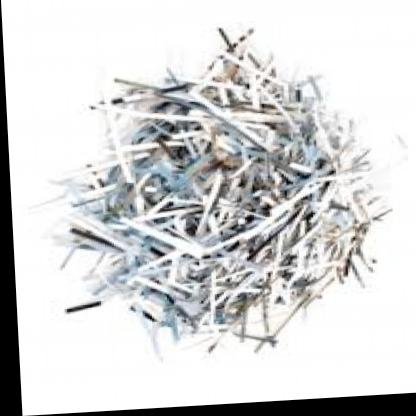Paper: (32, 6, 393, 394)
